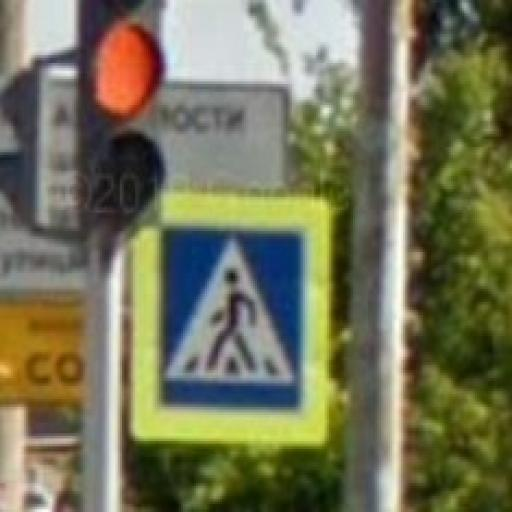traffic_sign: (130, 190, 332, 450)
